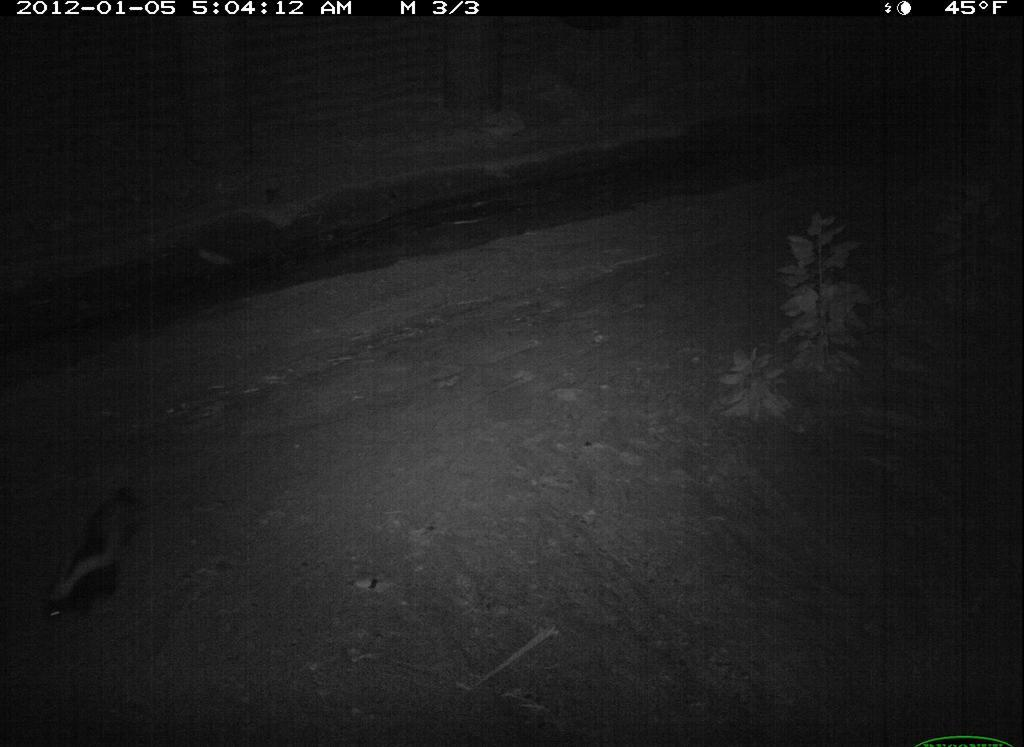skunk: (27, 477, 166, 633)
